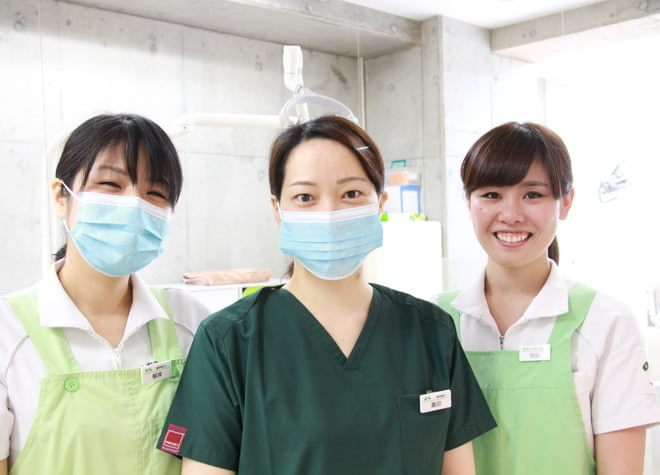mask: (67, 195, 172, 279), (276, 209, 383, 282)
